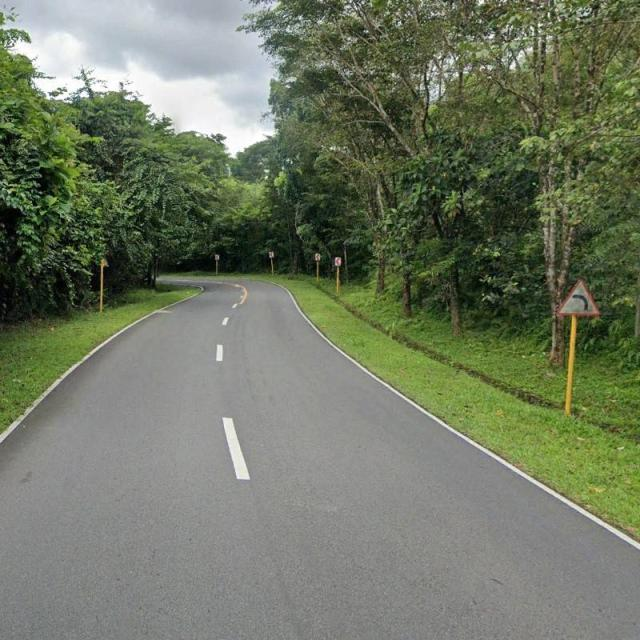warn_left_curve: (557, 278, 599, 317)
